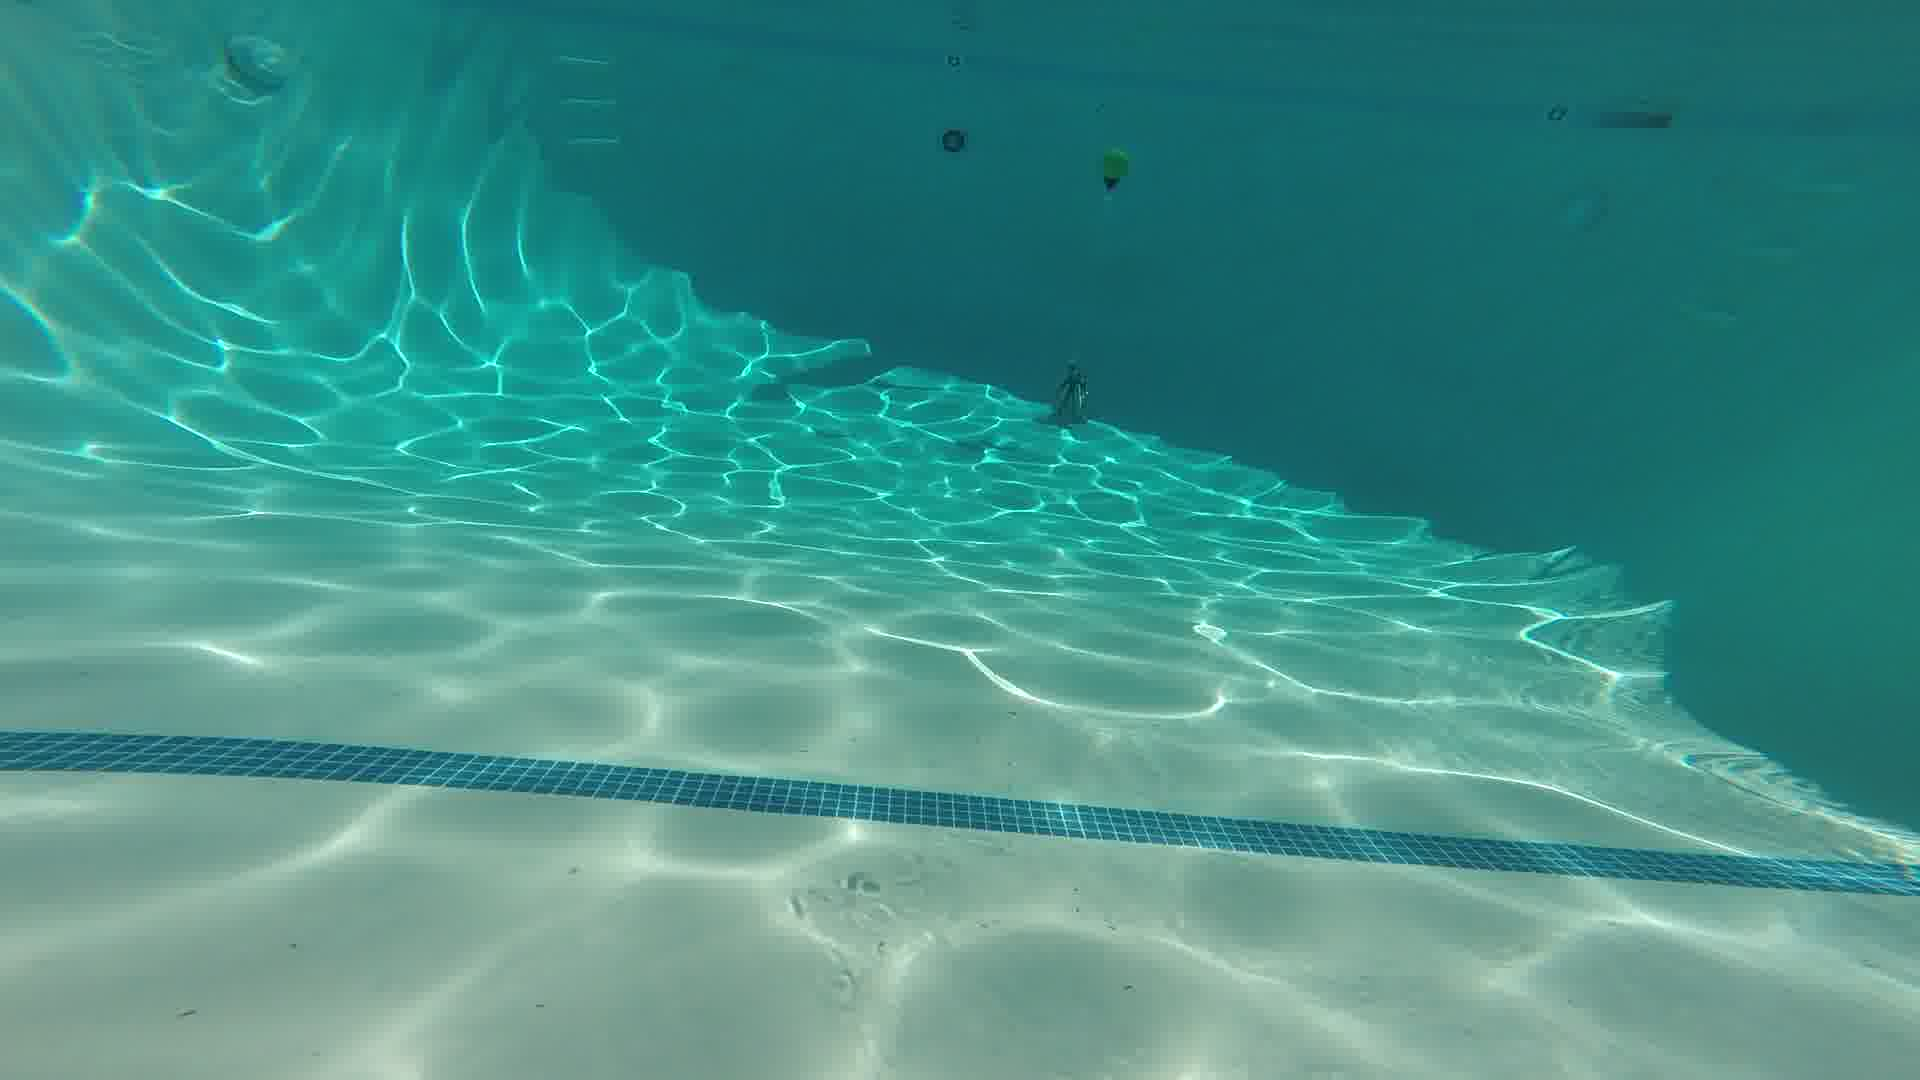yellow buoy: (1088, 142, 1134, 204)
